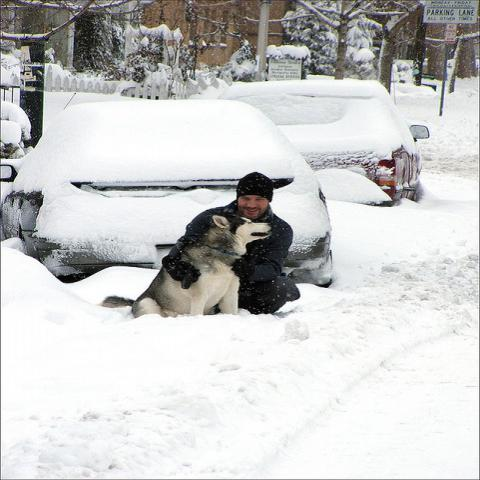car: (12, 100, 338, 277), (215, 74, 433, 206)
